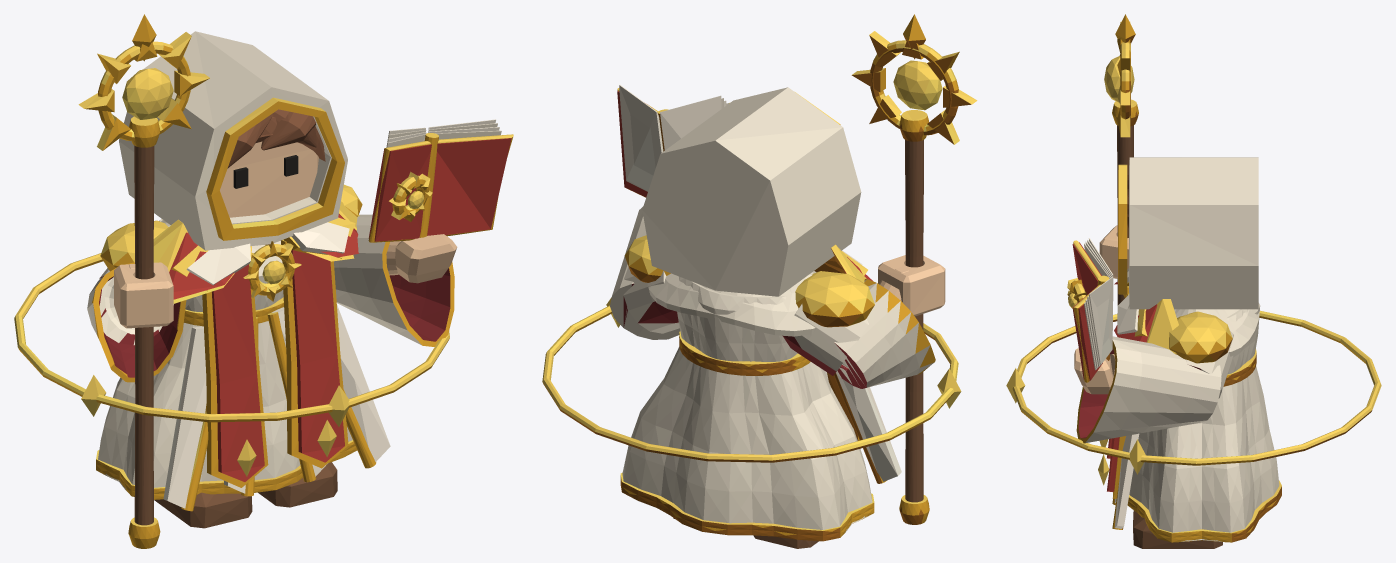
File: monk.glb
3 views of the same model, side by side, from view 1: azimuth 30°, elevation 25°; view 2: azimuth 150°, elevation 25°; view 3: azimuth 270°, elevation 25° (orthographic). The views are drawn at different scales.
Parts seen in each view (by area): view 1: Clothing — genuinely closed source hood with frontal apertur, Clothing — continuous connected deeply pleated source robe, Clothing — left V7 continuous outer source shoulder elbow cu, Clothing — right rich red folded stole field, Clothing — left rich red folded stole field, Equipment — thick open red source book cover 1, Weapon — source straight coaxial staff shaft, Clothing — actual continuous angular source gold hood apertu, VFX — optional source waist chanting ring, Head — one continuous source cuboid skull and concealed crow, Clothing — right broad flowing ivory skirt panel 2, Clothing — right V7 continuous outer source shoulder elbow c (+26 smaller); view 2: Clothing — continuous connected deeply pleated source robe, Clothing — genuinely closed source hood with frontal apertur, Clothing — right V7 continuous outer source shoulder elbow c, VFX — optional source waist chanting ring, Weapon — source straight coaxial staff shaft, Clothing — thin fitted draped ceremonial mantle shoulder she, Clothing — left V7 continuous outer source shoulder elbow cu, Armor — right major protective shoulder, Clothing — sculpted gold skirt hem, Equipment — 1 real broad fanned page layer 4, Hand — right stronger compact source grasp continuous with a, Clothing — right broad flowing ivory skirt panel 2 (+7 smaller); view 3: Clothing — genuinely closed source hood with frontal apertur, Clothing — continuous connected deeply pleated source robe, Clothing — left V7 continuous outer source shoulder elbow cu, VFX — optional source waist chanting ring, Armor — left major protective shoulder, Clothing — sculpted gold skirt hem, Equipment — 1 real broad fanned page layer 4, Clothing — thin fitted draped ceremonial mantle shoulder she, Clothing — actual continuous angular source gold hood apertu, Foot — left visible planted robe boot, Clothing — left broad flowing ivory skirt panel 2, Clothing — left broad gold sacred mantle border (+9 smaller).
Part boxes in pixels (x1,y1,x2,y2): Clothing — genuinely closed source hood with frontal apertur: [119, 31, 347, 250]; Clothing — continuous connected deeply pleated source robe: [98, 218, 352, 490]; Clothing — left V7 continuous outer source shoulder elbow cu: [334, 214, 454, 346]; Clothing — right rich red folded stole field: [212, 264, 264, 481]; Clothing — left rich red folded stole field: [291, 249, 344, 462]; Equipment — thick open red source book cover 1: [427, 138, 511, 235]; Weapon — source straight coaxial staff shaft: [134, 145, 154, 525]; Clothing — actual continuous angular source gold hood apertu: [206, 97, 344, 240]; VFX — optional source waist chanting ring: [14, 253, 449, 422]; Head — one continuous source cuboid skull and concealed crow: [220, 141, 318, 217]; Clothing — right broad flowing ivory skirt panel 2: [163, 326, 206, 508]; Clothing — right V7 continuous outer source shoulder elbow c: [87, 262, 193, 382]; Clothing — continuous connected deeply pleated source robe: [622, 276, 872, 532]; Clothing — genuinely closed source hood with frontal apertur: [642, 87, 861, 296]; Clothing — right V7 continuous outer source shoulder elbow c: [782, 279, 935, 388]; VFX — optional source waist chanting ring: [542, 305, 958, 462]; Weapon — source straight coaxial staff shaft: [905, 140, 923, 502]; Clothing — thin fitted draped ceremonial mantle shoulder she: [648, 271, 816, 336]; Clothing — left V7 continuous outer source shoulder elbow cu: [610, 206, 680, 339]; Armor — right major protective shoulder: [795, 271, 874, 327]; Clothing — sculpted gold skirt hem: [620, 472, 874, 541]; Equipment — 1 real broad fanned page layer 4: [619, 85, 662, 190]; Hand — right stronger compact source grasp continuous with a: [878, 255, 945, 316]; Clothing — right broad flowing ivory skirt panel 2: [836, 374, 901, 481]; Clothing — genuinely closed source hood with frontal apertur: [1129, 157, 1258, 309]; Clothing — continuous connected deeply pleated source robe: [1129, 303, 1279, 541]; Clothing — left V7 continuous outer source shoulder elbow cu: [1076, 314, 1233, 443]; VFX — optional source waist chanting ring: [1012, 310, 1381, 465]; Armor — left major protective shoulder: [1169, 311, 1232, 363]; Clothing — sculpted gold skirt hem: [1127, 480, 1281, 542]; Equipment — 1 real broad fanned page layer 4: [1089, 276, 1113, 364]; Clothing — thin fitted draped ceremonial mantle shoulder she: [1174, 309, 1259, 356]; Clothing — actual continuous angular source gold hood apertu: [1118, 164, 1127, 294]; Foot — left visible planted robe boot: [1133, 510, 1222, 548]; Clothing — left broad flowing ivory skirt panel 2: [1114, 433, 1139, 528]; Clothing — left broad gold sacred mantle border: [1146, 299, 1178, 354].
Bounding box in the file's own units: 0.9532 × 1.21 × 0.91.
